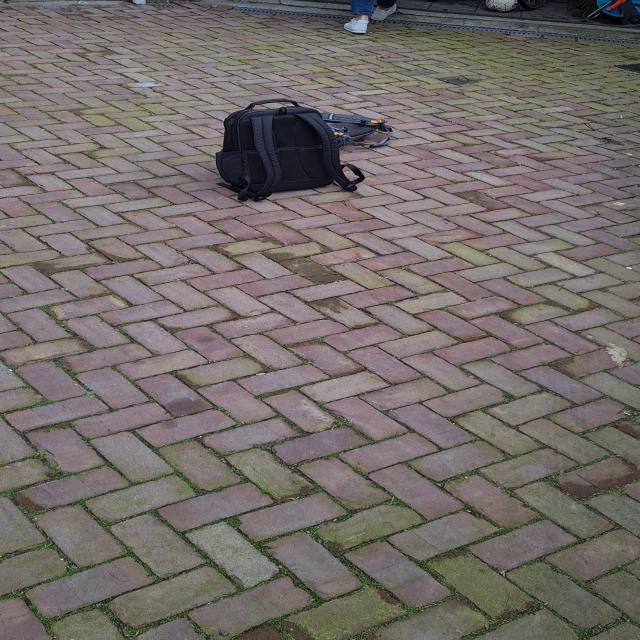backpack: (207, 96, 360, 201), (299, 111, 401, 157)
